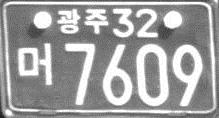0: (135, 42, 170, 106)
2: (135, 7, 160, 40)
3: (111, 6, 134, 39)
6: (101, 42, 134, 105)
7: (63, 40, 96, 106)
9: (171, 43, 204, 106)
광주_O: (55, 5, 108, 35)
머: (17, 41, 54, 87)
